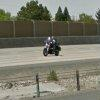Motorcycle: (37, 35, 82, 66)
